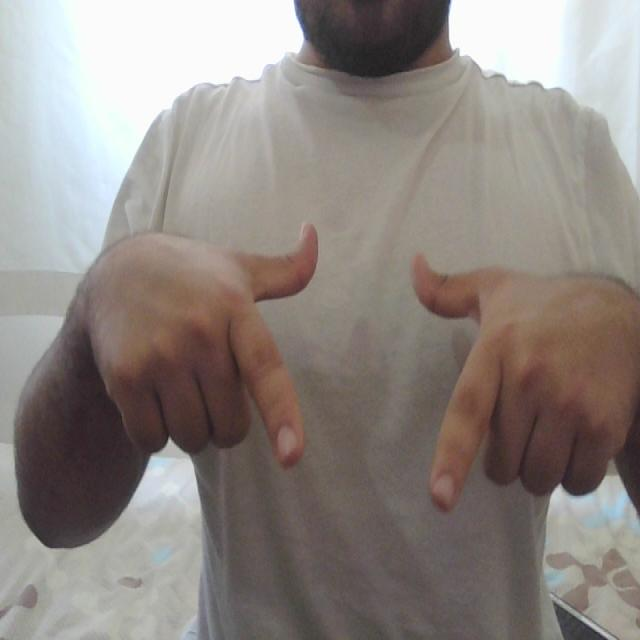Nerede: (219, 220, 525, 512)
